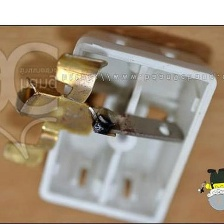three_eye_plug: (1, 28, 220, 224)
